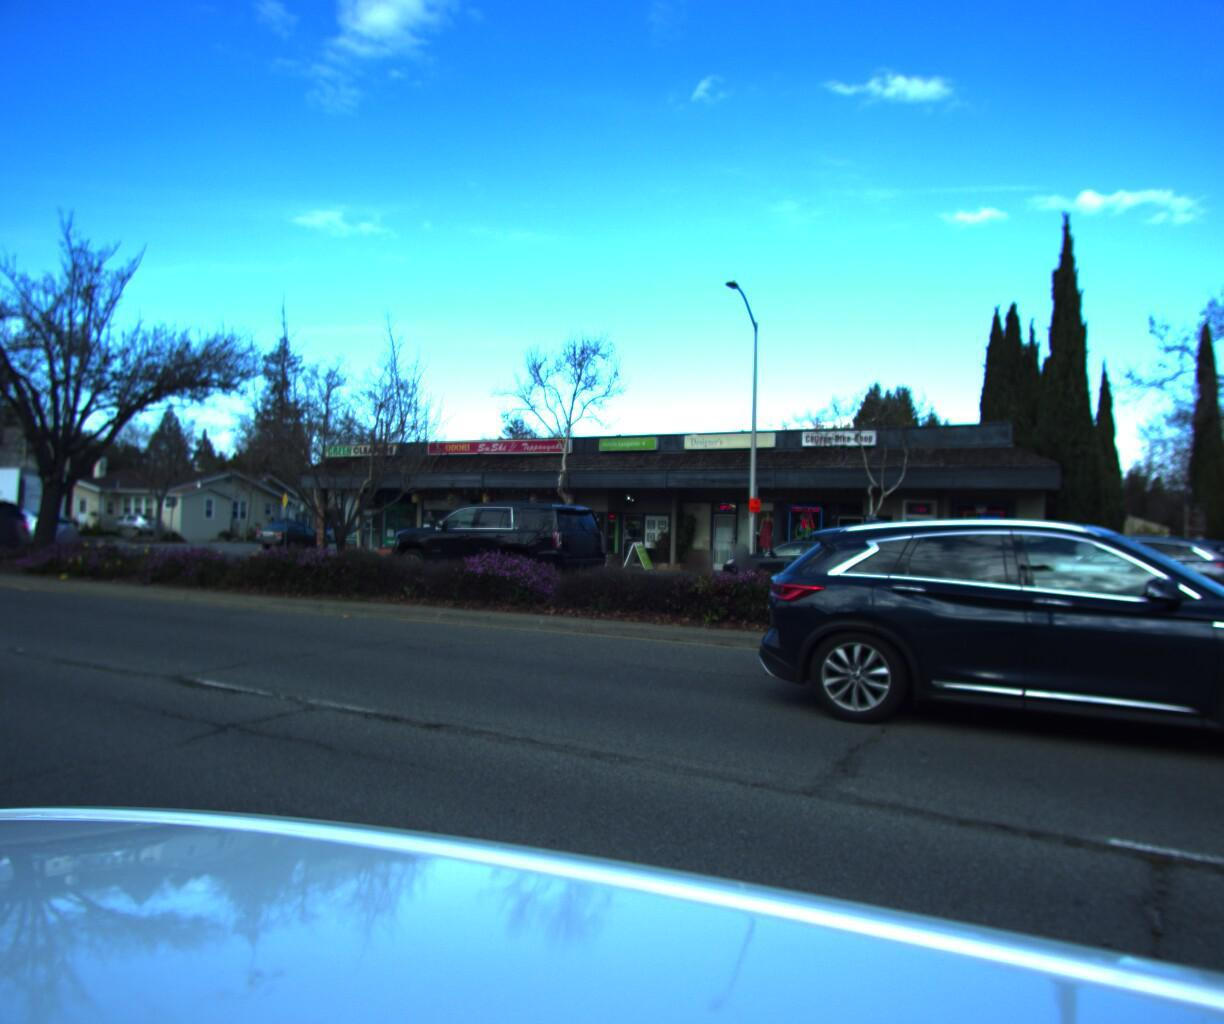car: (732, 508, 1224, 805), (372, 487, 620, 601), (1000, 532, 1224, 617), (705, 532, 888, 592), (0, 505, 81, 546), (246, 516, 326, 546), (88, 507, 171, 534), (0, 492, 36, 551)
truck: (0, 461, 76, 538)
